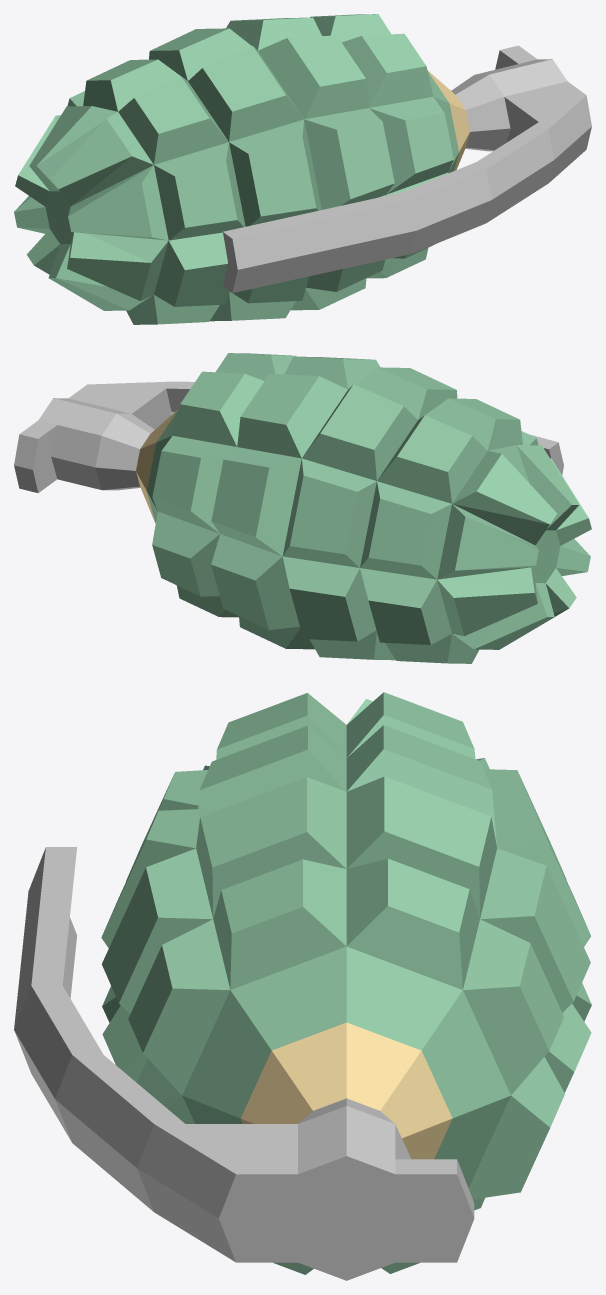
File: Grenade.fbx
3 renders of one model, top to bottom at view 1: azimuth 30°, elevation 25°; view 2: azimuth 150°, elevation 25°; view 3: azimuth 270°, elevation 25°, orthographic. The views are drawn at different scales.
Parts seen in each view (by area): view 1: FragGrenade; view 2: FragGrenade; view 3: FragGrenade.
Part boxes in pixels (left/top/right/bottom): FragGrenade: left=14, top=14, right=591, bottom=324; FragGrenade: left=14, top=353, right=591, bottom=663; FragGrenade: left=14, top=692, right=591, bottom=1280.
Size of the model in its own units: 0.0705 by 0.0599 by 0.1168.
